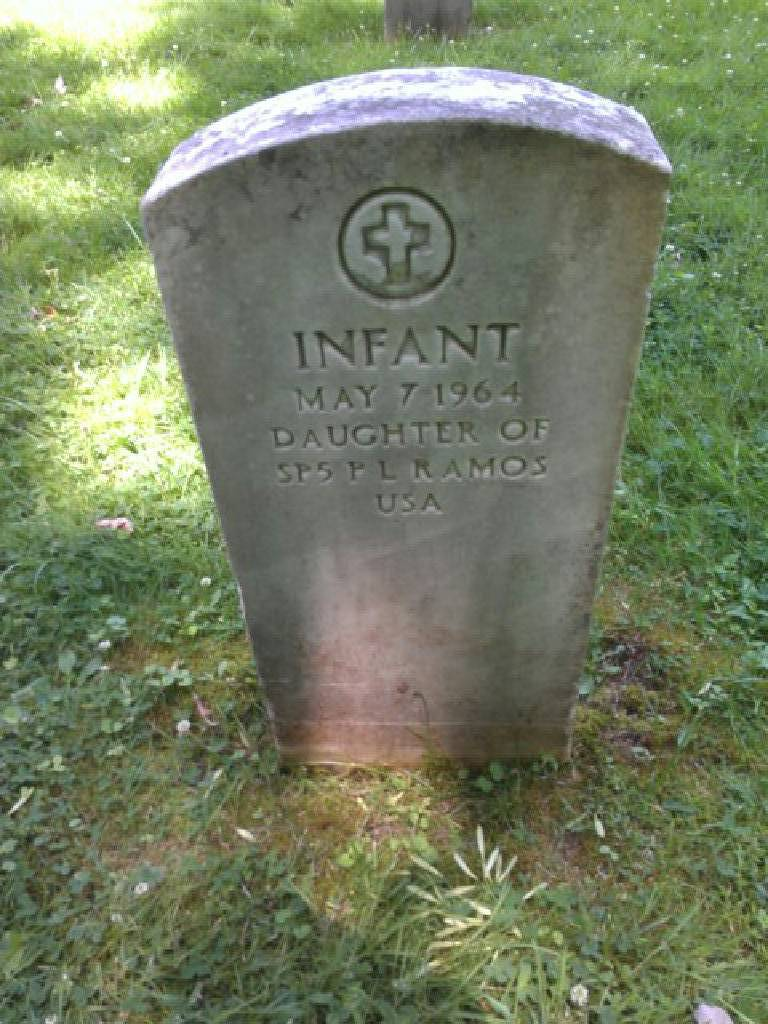military: (106, 79, 676, 790)
